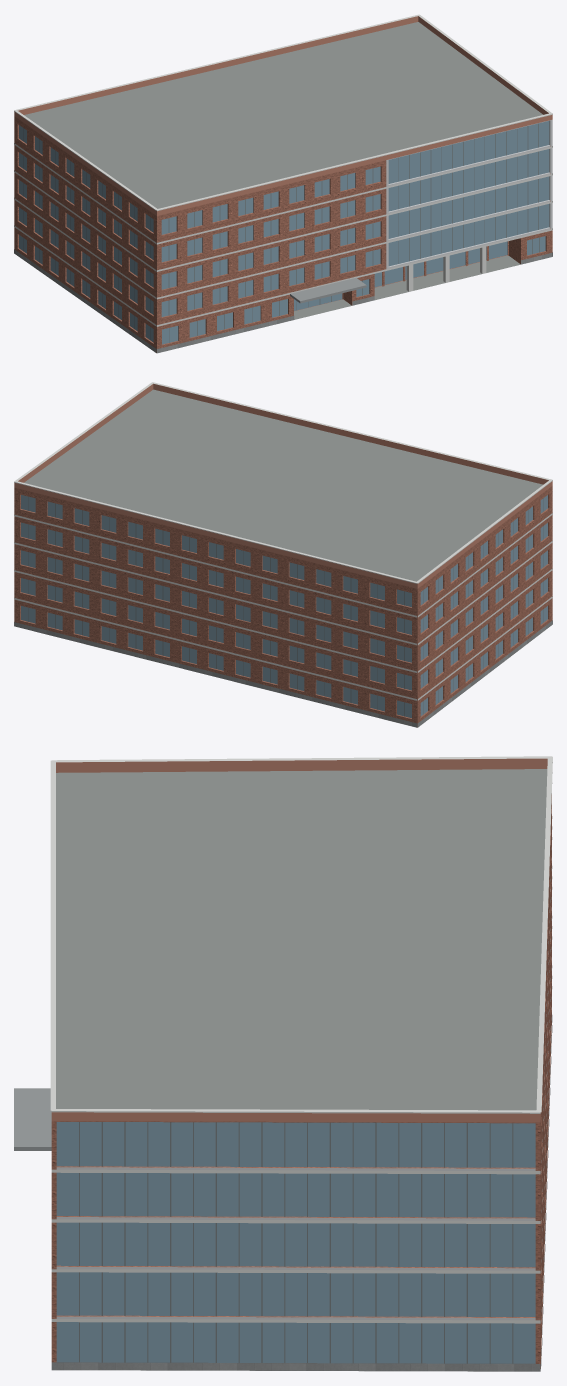
3 views of the same model, one above another, from view 1: azimuth 30°, elevation 25°; view 2: azimuth 150°, elevation 25°; view 3: azimuth 270°, elevation 25° (orthographic). The views are drawn at different scales.
Visible parts, largest first — view 1: convergence__roof, convergence__wall, convergence__glass, convergence__trim, convergence__parapet, convergence__frame, convergence__wall2, convergence__base, convergence__spandrel, convergence__canopy, convergence__column; view 2: convergence__wall, convergence__roof, convergence__glass, convergence__trim, convergence__parapet, convergence__base, convergence__frame; view 3: convergence__roof, convergence__glass, convergence__trim, convergence__parapet, convergence__wall, convergence__frame, convergence__spandrel, convergence__base, convergence__canopy.
Boxes of the visible parts, box(x1,y1,x2,y2) form: convergence__roof: box(24, 22, 542, 319); convergence__wall: box(14, 116, 552, 352); convergence__glass: box(19, 121, 549, 344); convergence__trim: box(14, 14, 552, 326); convergence__parapet: box(14, 16, 552, 215); convergence__frame: box(23, 123, 539, 342); convergence__wall2: box(386, 119, 552, 268); convergence__base: box(14, 249, 552, 353); convergence__spandrel: box(388, 145, 549, 268); convergence__canopy: box(290, 277, 366, 303); convergence__column: box(406, 246, 486, 291); convergence__wall: box(14, 486, 552, 727); convergence__roof: box(24, 389, 542, 581); convergence__glass: box(21, 495, 547, 718); convergence__trim: box(14, 382, 552, 700); convergence__parapet: box(14, 383, 552, 588); convergence__base: box(14, 620, 552, 727); convergence__frame: box(28, 497, 543, 716); convergence__roof: box(56, 769, 547, 1371); convergence__glass: box(56, 1122, 535, 1363); convergence__trim: box(50, 756, 552, 1323); convergence__parapet: box(51, 758, 547, 1122); convergence__wall: box(51, 794, 551, 1368); convergence__frame: box(79, 1122, 513, 1363); convergence__spandrel: box(56, 1167, 535, 1320); convergence__base: box(51, 1015, 552, 1371); convergence__canopy: box(14, 1088, 51, 1150).
Size of the model in its own units: 58.35 by 19.82 by 37.31.
Materials: 12 (2 with a texture image).
